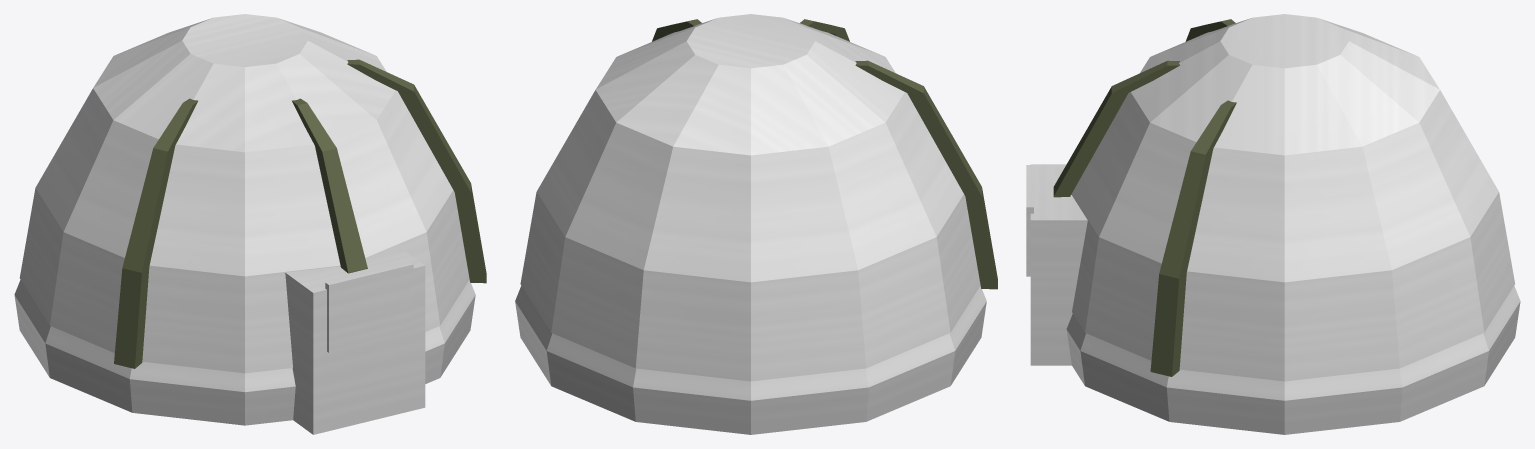
Rendered from broadshield_projector.obj.
3 renders of one model, left to right at view 1: azimuth 30°, elevation 25°; view 2: azimuth 150°, elevation 25°; view 3: azimuth 270°, elevation 25°, orthographic. The views are drawn at different scales.
Parts seen in each view (by area): view 1: broadshield_projector; view 2: broadshield_projector; view 3: broadshield_projector.
Boxes of the visible parts, x1,y1,x2,y2 form: broadshield_projector: (14,14,486,434); broadshield_projector: (515,14,997,434); broadshield_projector: (1026,14,1520,434).
Bounding box in the file's own units: 0.6776 × 0.4697 × 0.7098.
